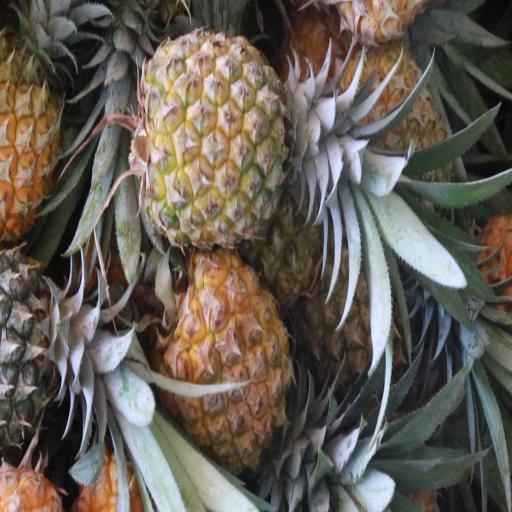------------------------------: (335, 48, 448, 217)
Pineapple - v8 v1: (140, 34, 287, 245), (157, 244, 291, 472), (0, 42, 70, 248)
